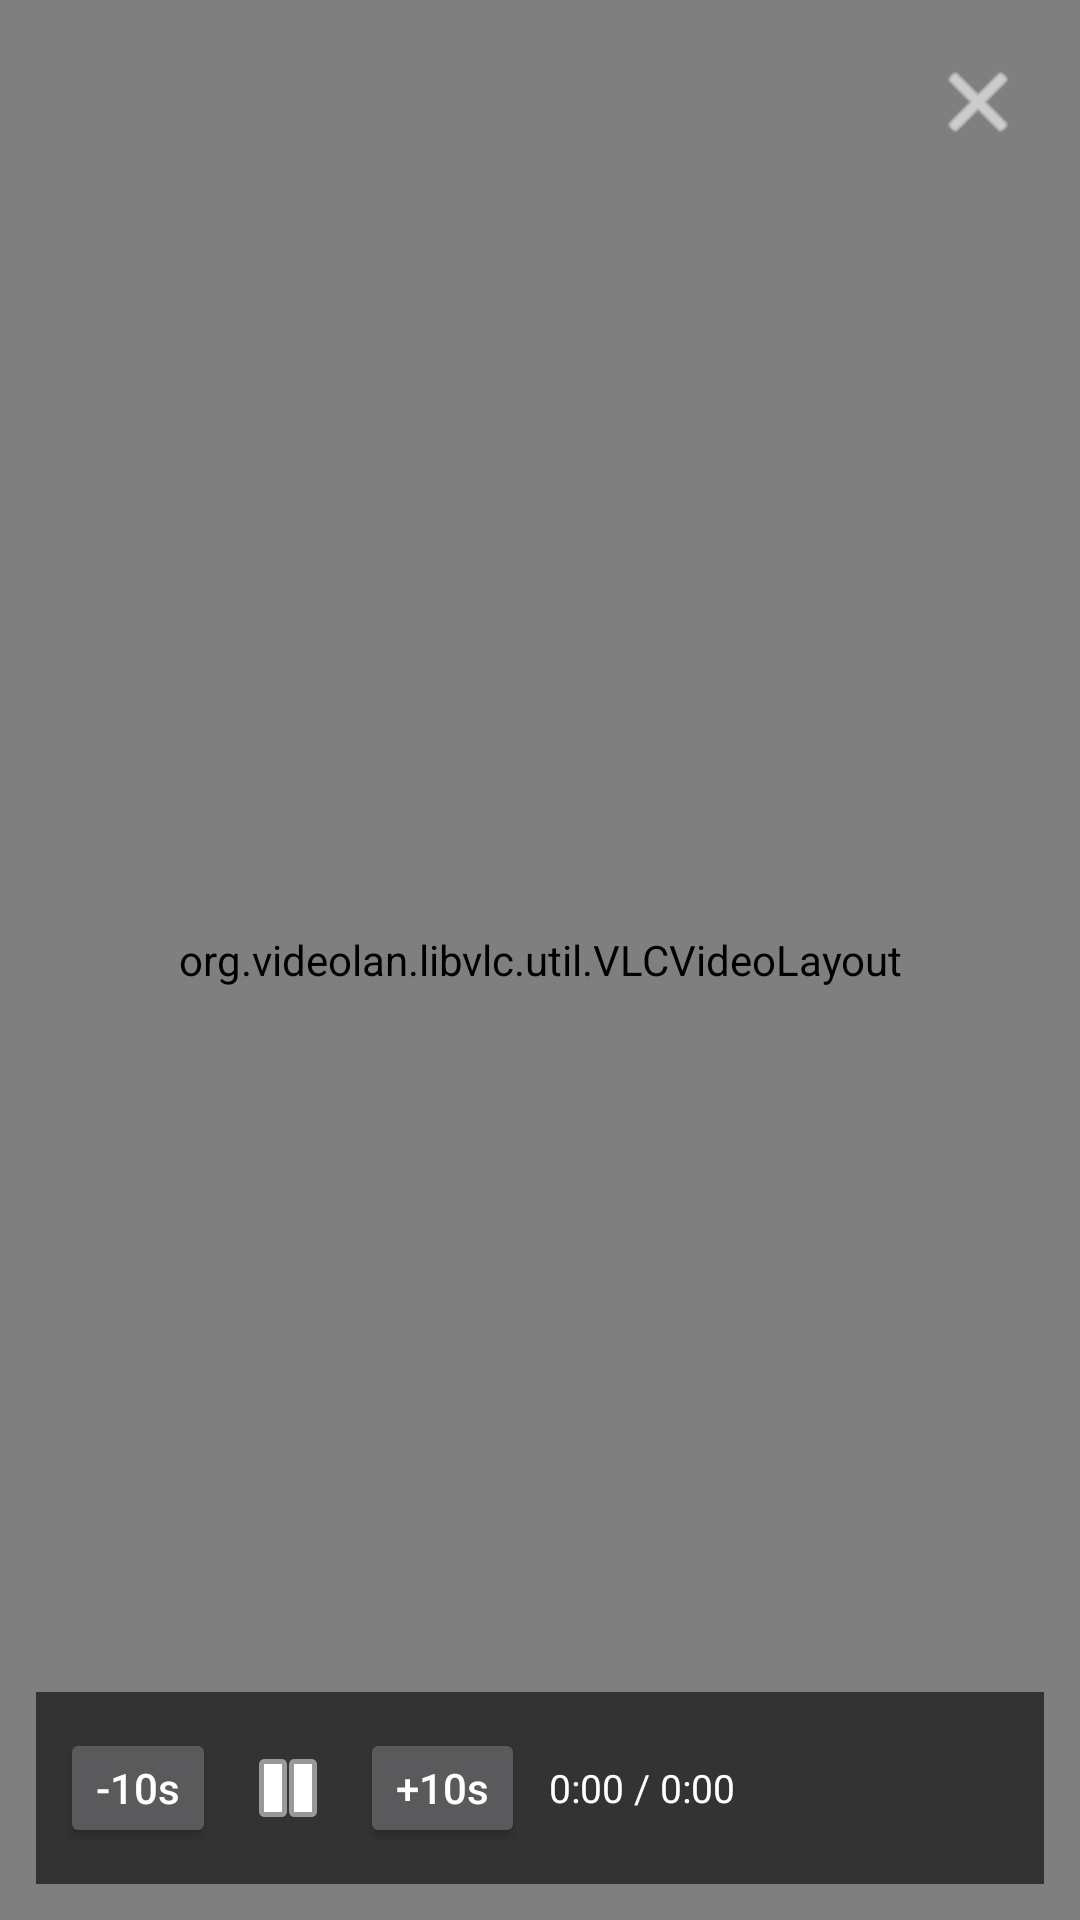

Icons on this 1080 × 1920 Android screen, each with its box as detection(x1, y1, x2, y2):
Close player: detection(948, 72, 1008, 132)
Play or pause: detection(259, 1759, 317, 1817)
